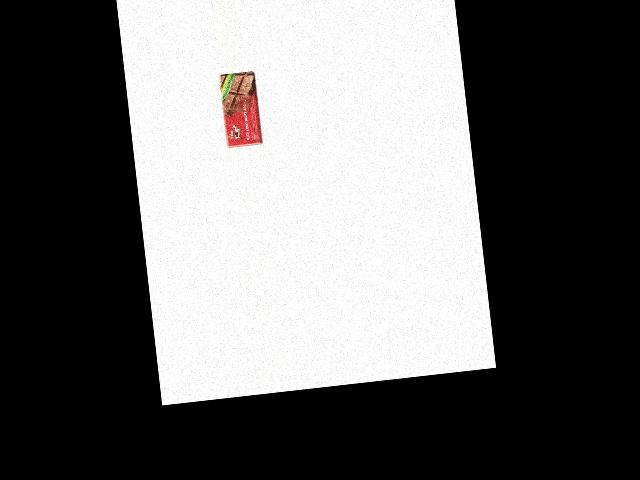chocolate: (217, 70, 264, 149)
